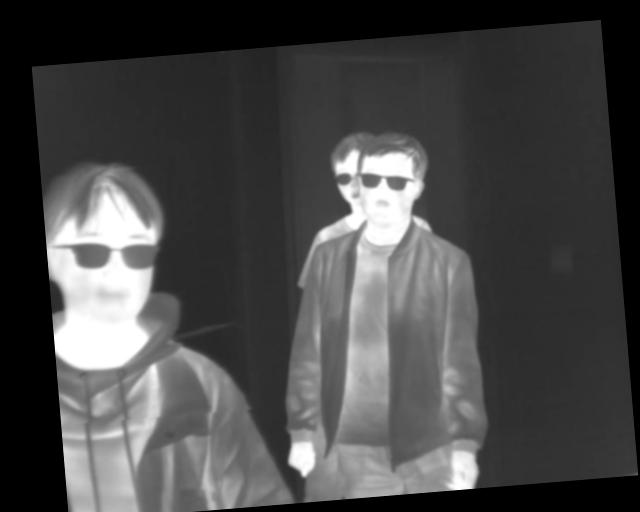face: (42, 153, 171, 328), (354, 127, 433, 232)
